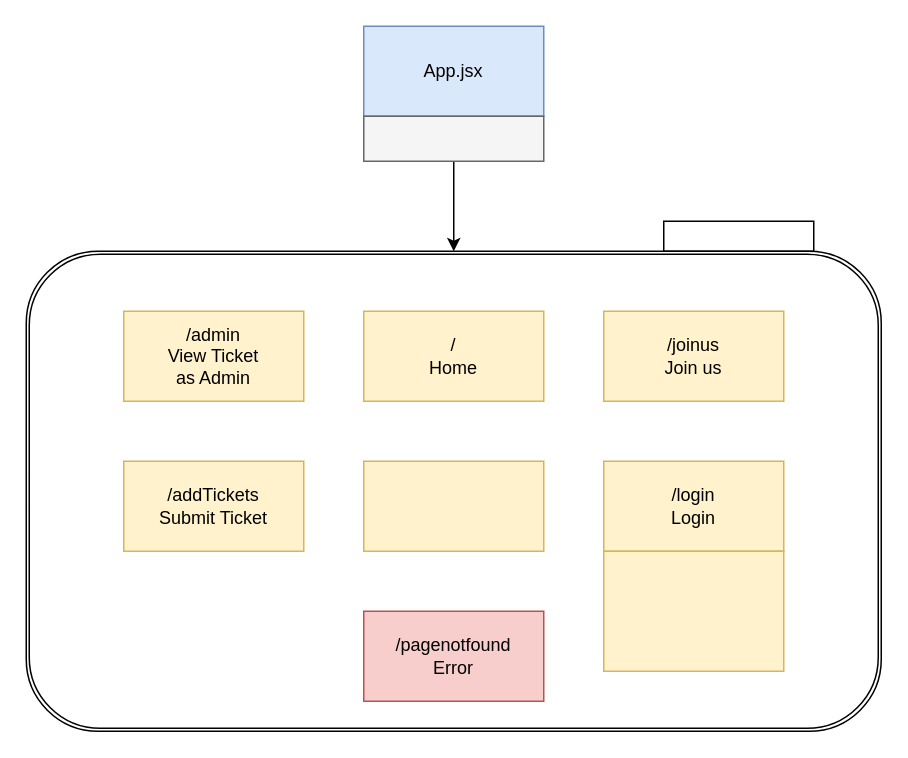
The diagram is 908 pixels wide and 758 high, and some of its shapes have lost their labels. Here are the shapes that lost their labels. From the top down, the centre of each, then its label:
(x=453, y=138): Menu
(x=738, y=235): Routes
(x=453, y=505): /tickets View Tickets
(x=693, y=610): State: {login} or {signup}
